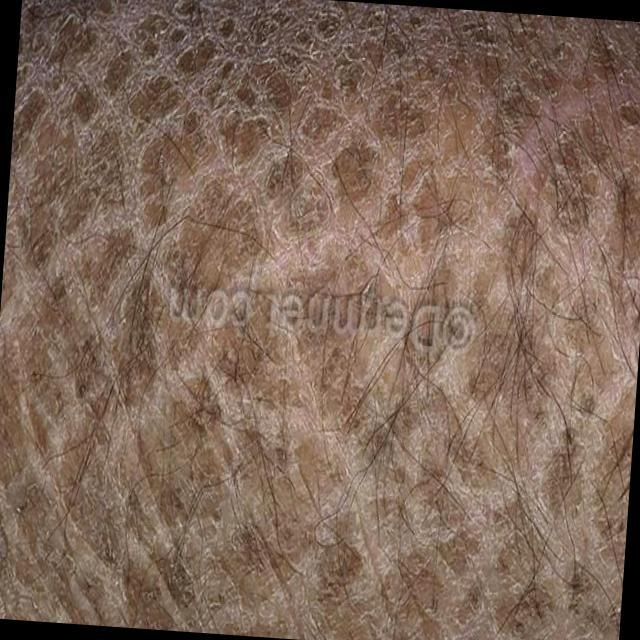Eczema: (16, 14, 628, 640)
